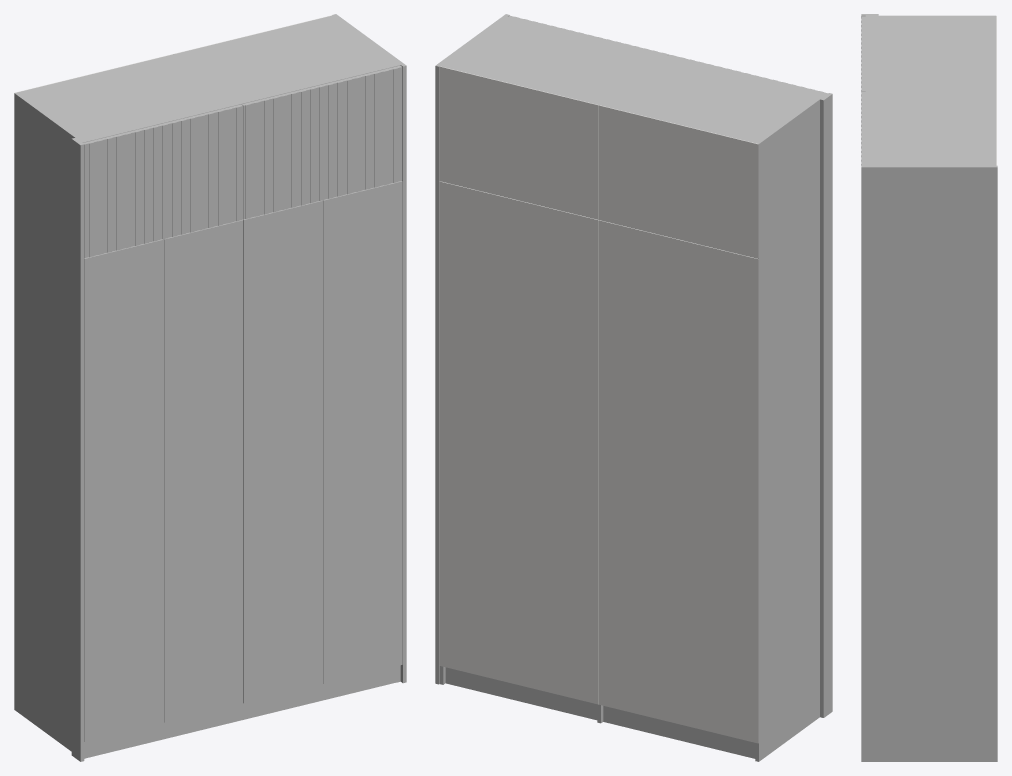
3 renders of one model, left to right at view 1: azimuth 30°, elevation 25°; view 2: azimuth 150°, elevation 25°; view 3: azimuth 270°, elevation 25°, orthographic. The views are drawn at different scales.
Parts seen in each view (by area): view 1: Фасад (×6), БокЛев (×3), Крыша, Цоколь, БокПрав; view 2: ЗадСтенка (×4), БокЛев (×3), Крыша, Цоколь, БокПрав; view 3: БокПрав (×2), Крыша, Фасад (×2), БокЛев.
Part boxes in pixels (x1,y1,x2,y2): Фасад (×6): (83,65,402,742); БокЛев (×3): (14,92,85,761); Крыша: (18,16,396,142); Цоколь: (85,666,396,758); БокПрав: (332,14,406,683); ЗадСтенка (×4): (439,66,758,743); БокЛев (×3): (755,93,832,761); Крыша: (443,17,822,142); Цоколь: (445,667,755,758); БокПрав: (435,14,509,684); БокПрав (×2): (861,164,997,761); Крыша: (865,17,996,163); Фасад (×2): (861,16,865,165); БокЛев: (865,15,996,17).
Bounding box in the file's own units: 1467 × 550 × 2650.
